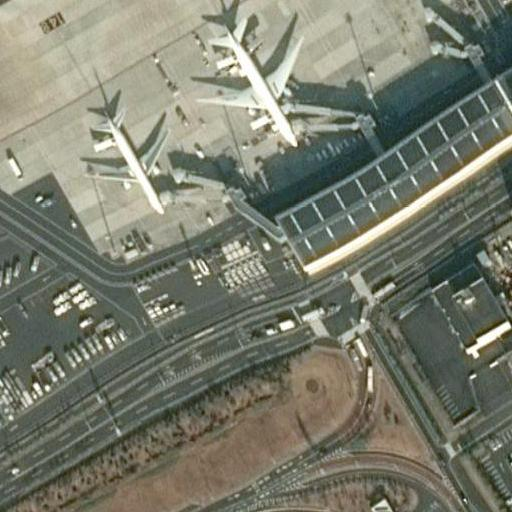Aircraft: (192, 18, 309, 143), (80, 114, 178, 219)
